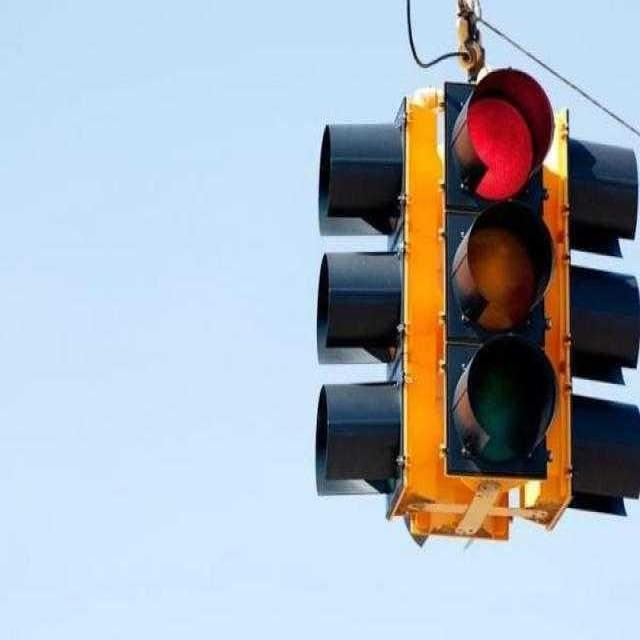Traffic Light -Red-: (434, 66, 562, 494)
